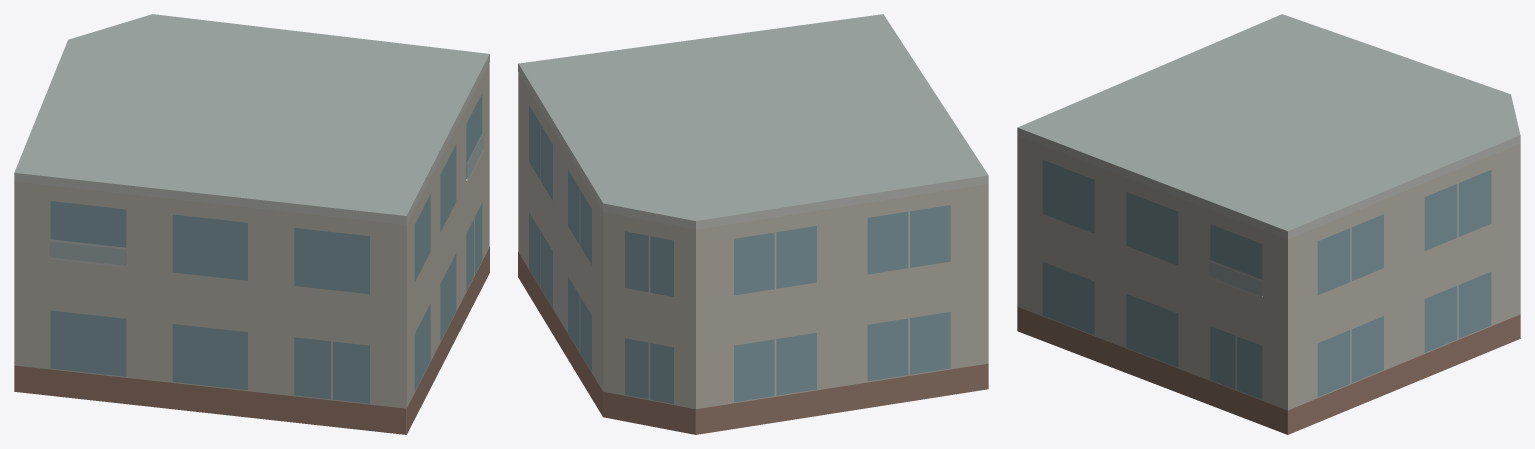
File: survey-upis-32893222.glb
3 renders of one model, left to right at view 1: azimuth 30°, elevation 25°; view 2: azimuth 150°, elevation 25°; view 3: azimuth 270°, elevation 25°, orthographic. The views are drawn at different scales.
Visible parts, largest first — view 1: survey-upis-32893222.tmp; view 2: survey-upis-32893222.tmp; view 3: survey-upis-32893222.tmp.
Part boxes in pixels (x1,y1,x2,y2): survey-upis-32893222.tmp: [14, 14, 489, 434]; survey-upis-32893222.tmp: [518, 14, 988, 434]; survey-upis-32893222.tmp: [1017, 14, 1520, 434].
Size of the model in its own units: 13.97 by 6.1 by 13.67.
